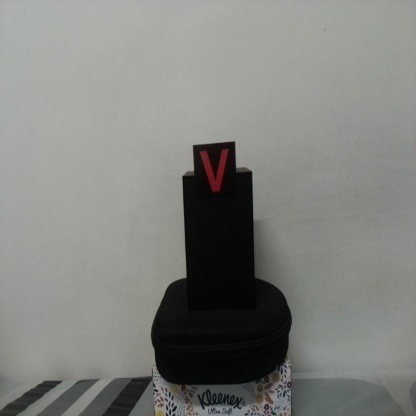id_11: (193, 145, 237, 203)
